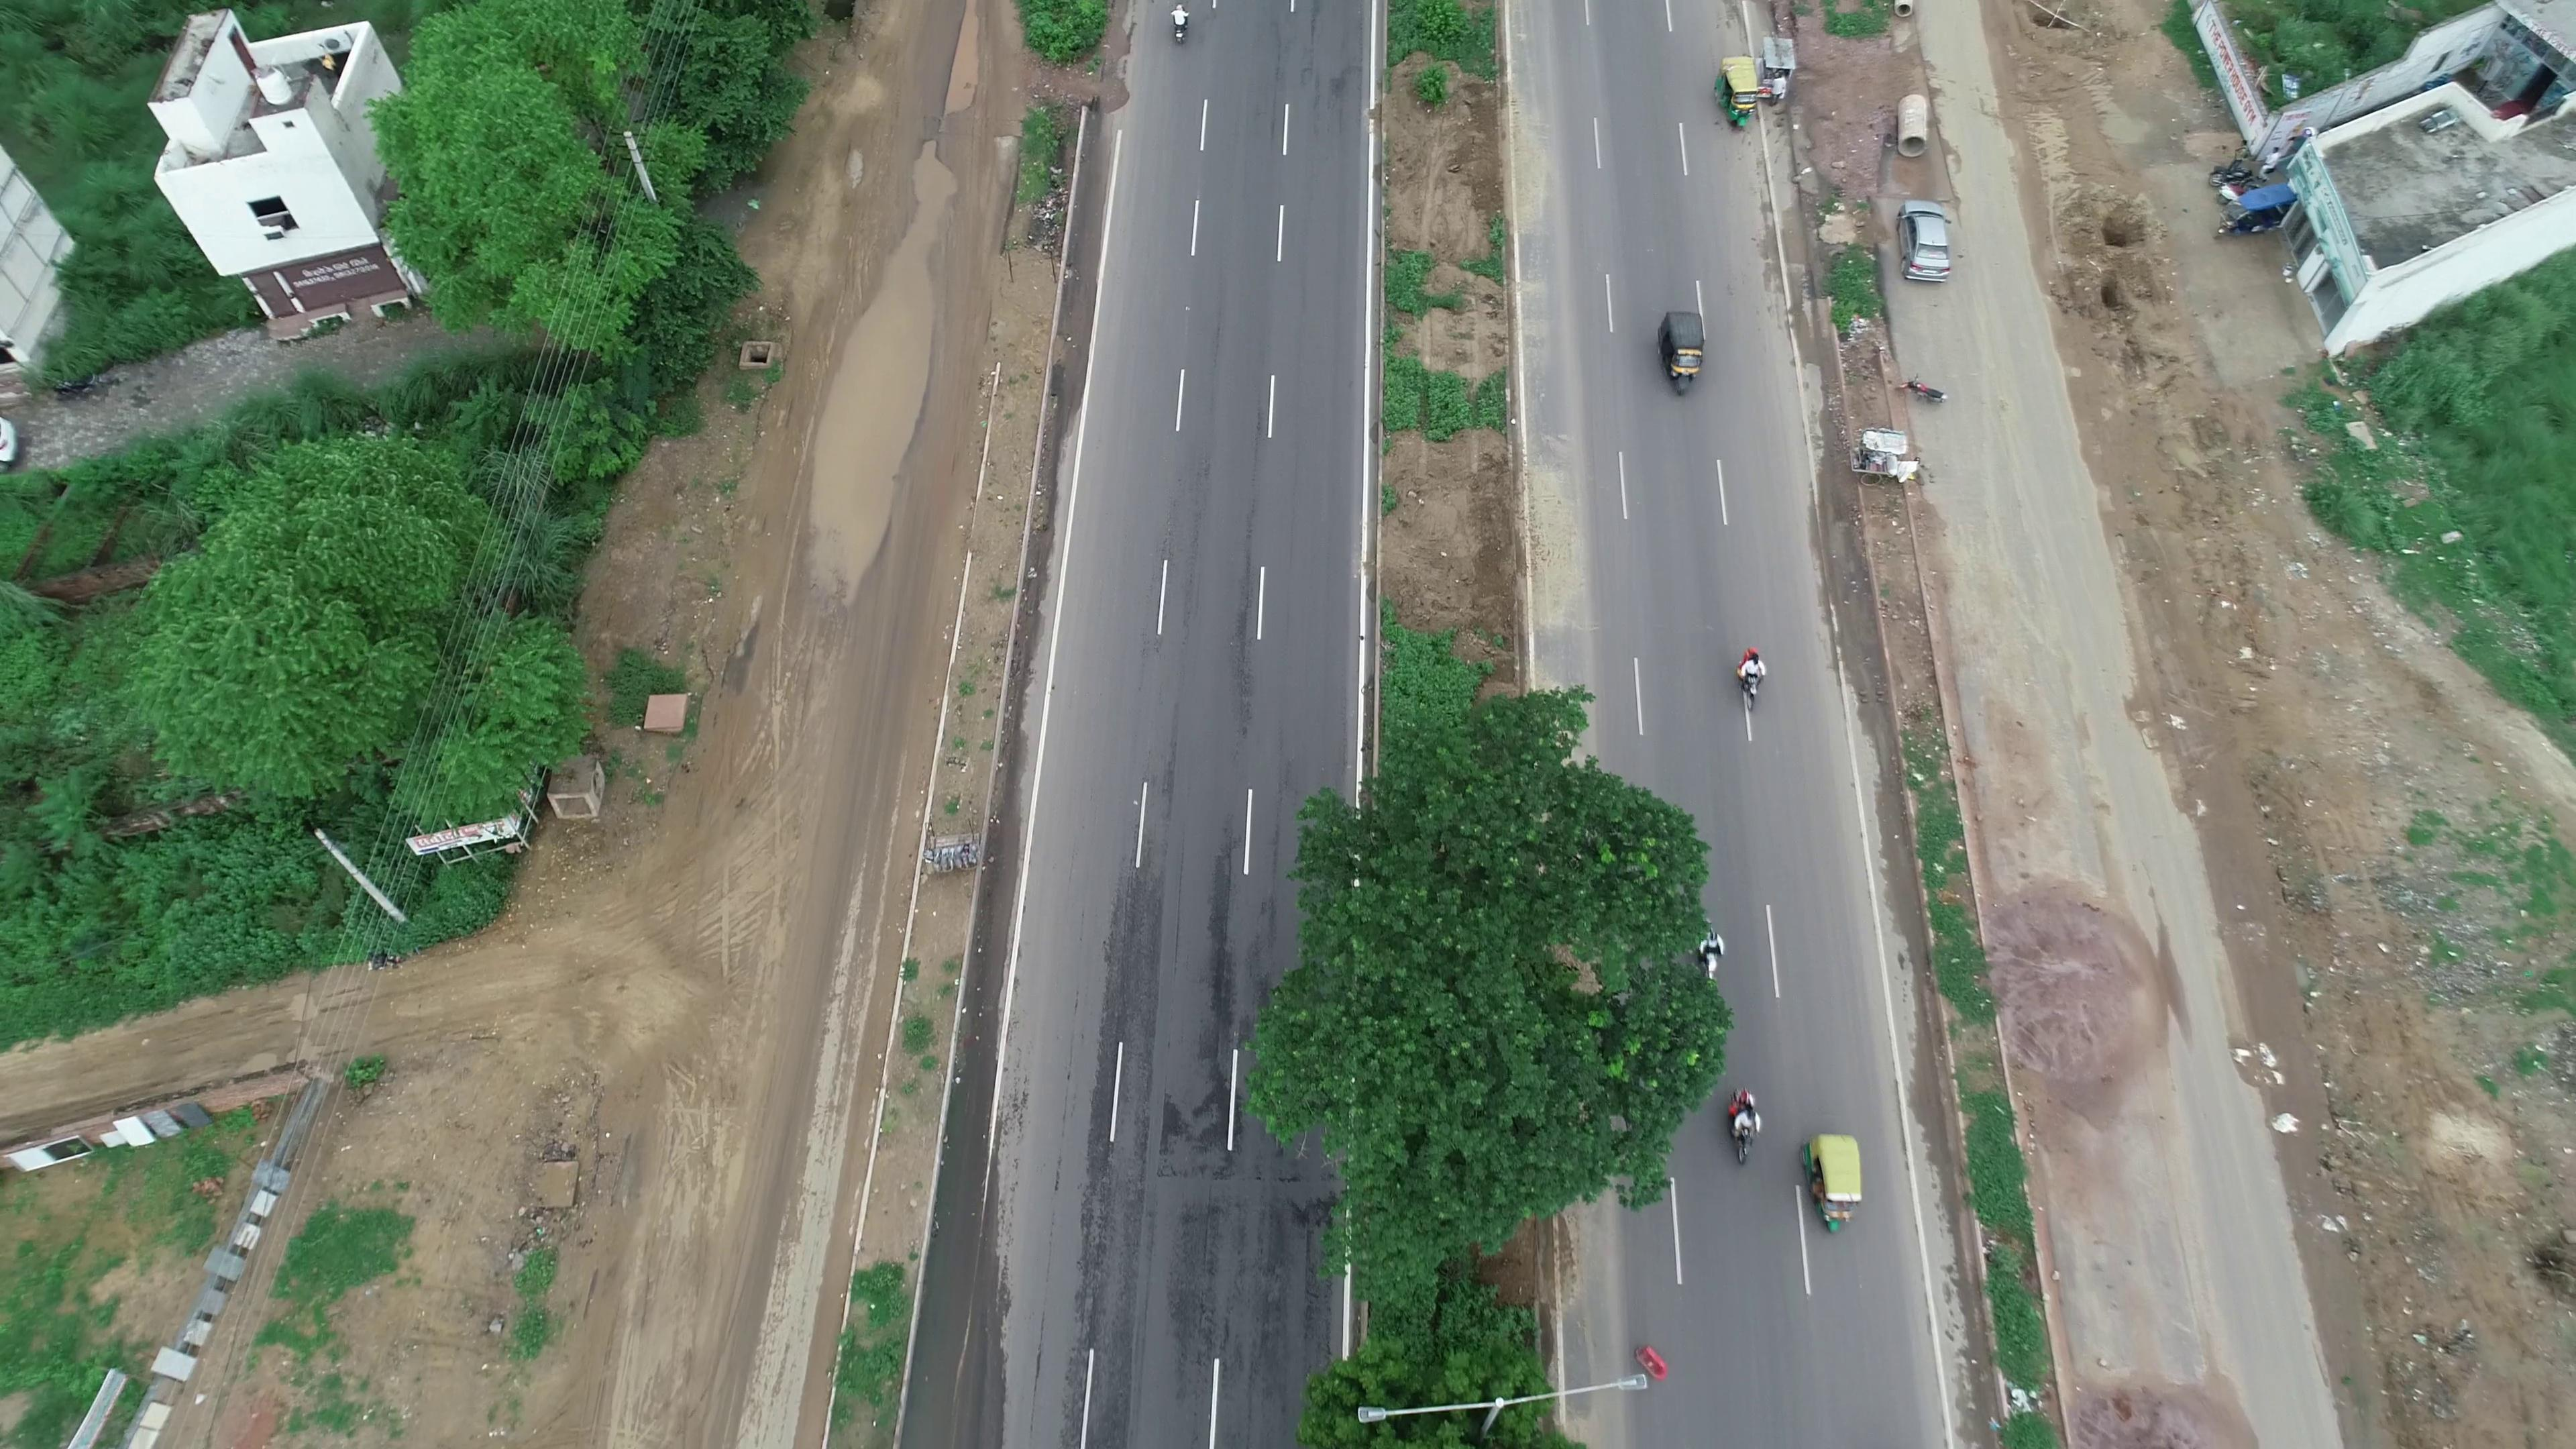Muddy_road: (603, 996, 791, 1387), (1983, 844, 2166, 1157)
Ravelling: (1069, 856, 1175, 1403), (1177, 810, 1279, 1169)
Waterlogging: (787, 188, 952, 602)
